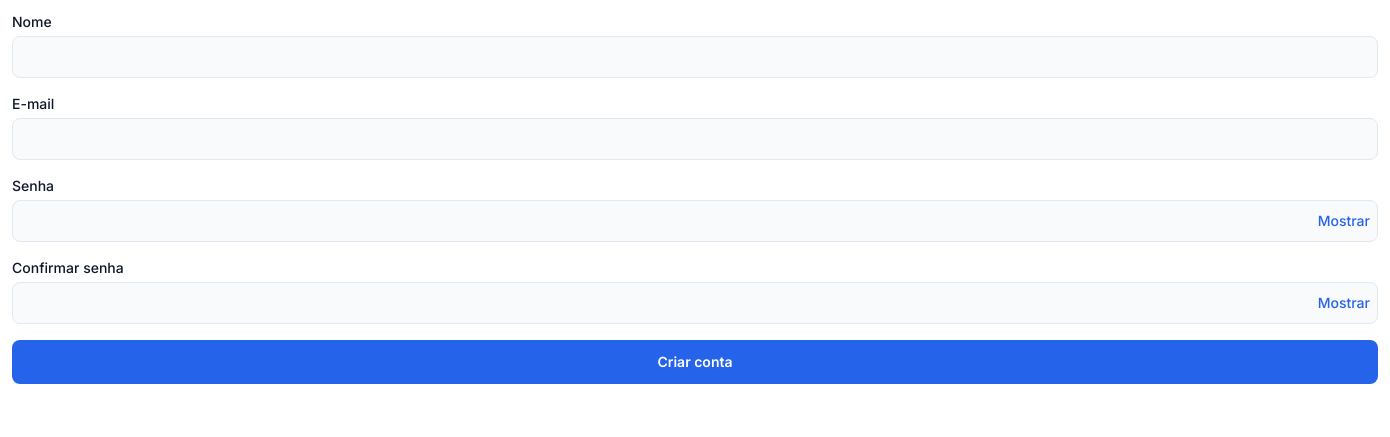
Test case: FormularioCadastro › mostra o indicador de forca conforme a senha e digitada
Check: the text "Força da senha" is not shown
Type "SenhaForte@2026" into the password field labelled "Senha" at point(695, 221), box [12,200,1378,242]
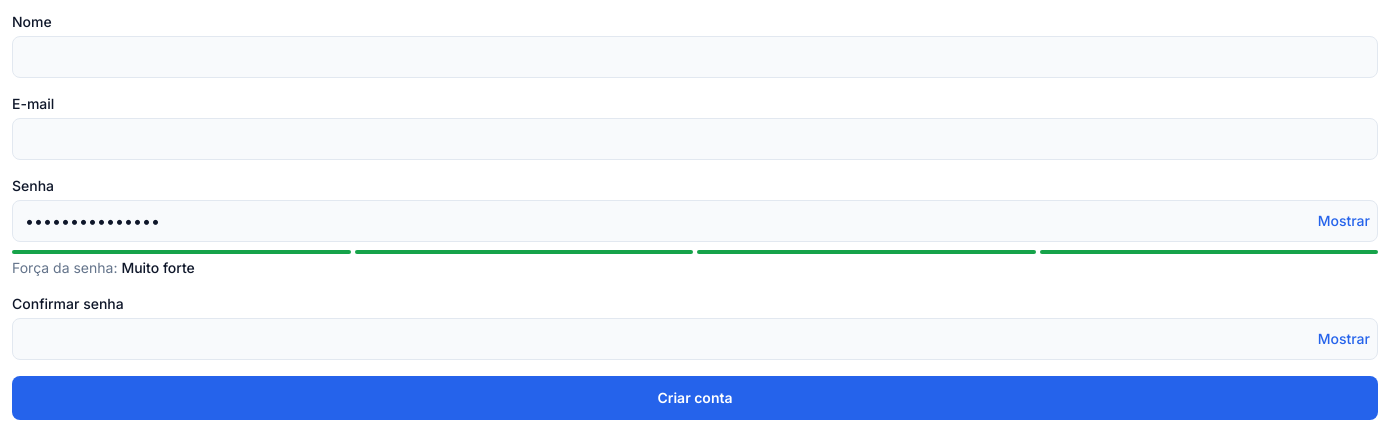
Check: the text "Força da senha: Muito forte" is shown, box [12,259,195,276]
